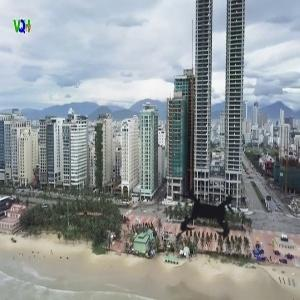drone: (145, 155, 272, 282)
